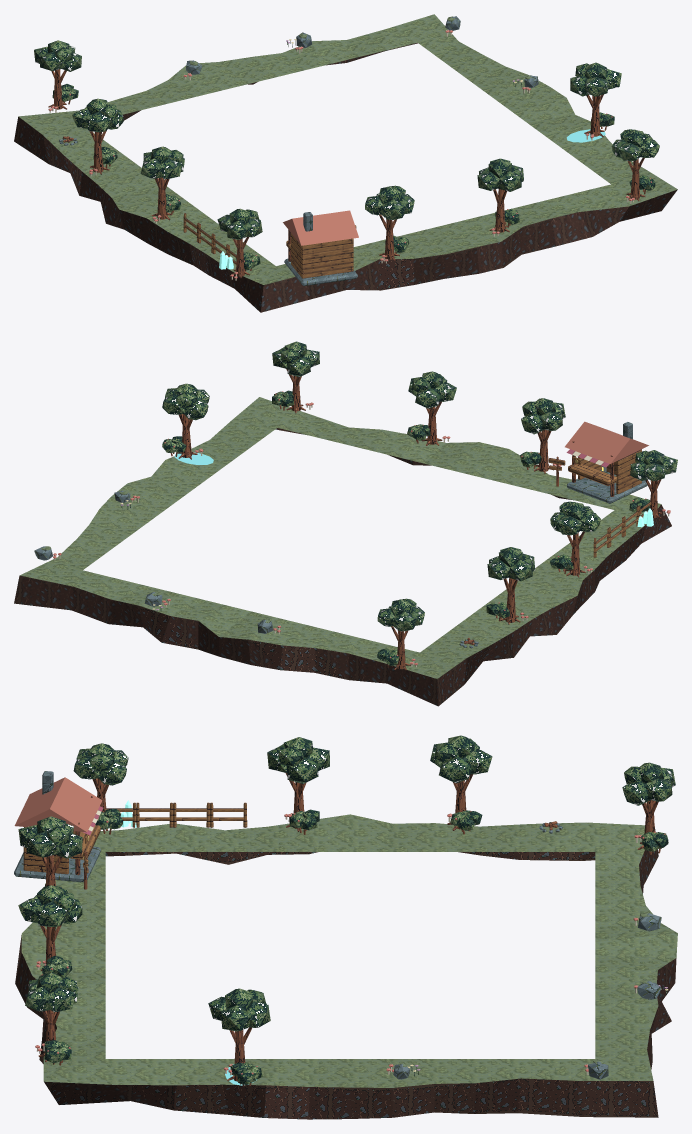
The model's file is entorno.glb.
3 renders of one model, top to bottom at view 1: azimuth 30°, elevation 25°; view 2: azimuth 150°, elevation 25°; view 3: azimuth 270°, elevation 25°, orthographic. The views are drawn at different scales.
Parts seen in each view (by area): view 1: bosque_entorno; view 2: bosque_entorno; view 3: bosque_entorno.
Part boxes in pixels (x1,y1,x2,y2): bosque_entorno: (14, 14, 677, 312); bosque_entorno: (14, 341, 677, 706); bosque_entorno: (14, 735, 677, 1119).
Size of the model in its own units: 16.57 by 3.53 by 16.55.
Materials: 17 (6 with a texture image).
